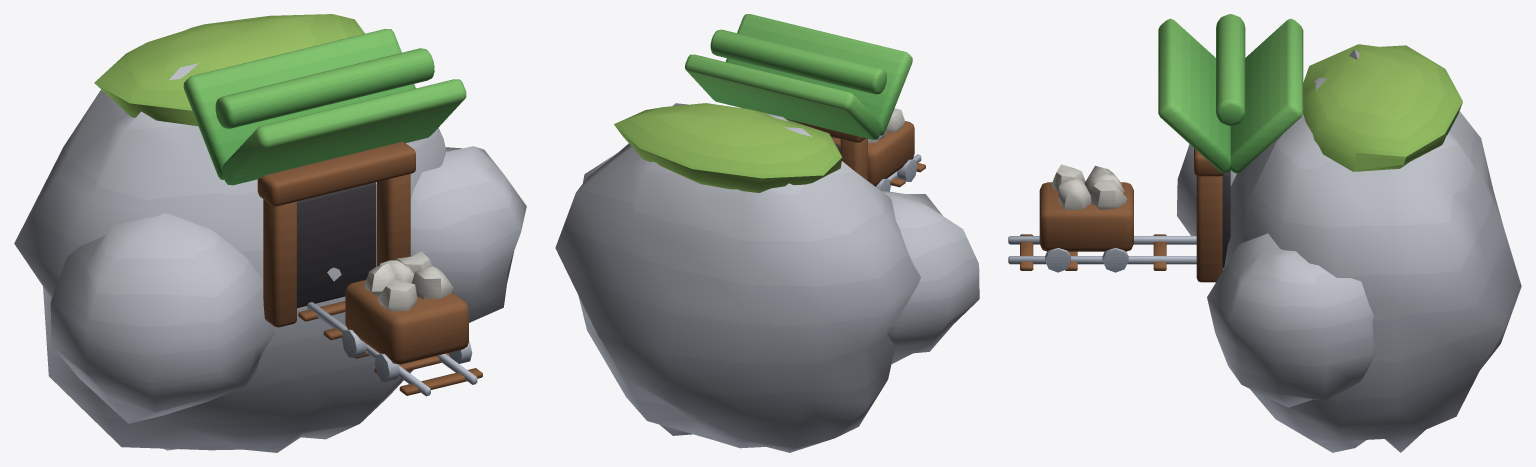
Rendered from mineG.glb.
3 views of the same model, side by side, from view 1: azimuth 30°, elevation 25°; view 2: azimuth 150°, elevation 25°; view 3: azimuth 270°, elevation 25° (orthographic). The views are drawn at different scales.
Visible parts, largest first — view 1: mineG; view 2: mineG; view 3: mineG.
Part boxes in pixels (bbox=[...]): mineG: bbox=[14, 14, 526, 452]; mineG: bbox=[555, 14, 979, 452]; mineG: bbox=[1008, 14, 1521, 452].
Size of the model in its own units: 1.77 by 1.56 by 1.96.
1 material, 1 textured.
